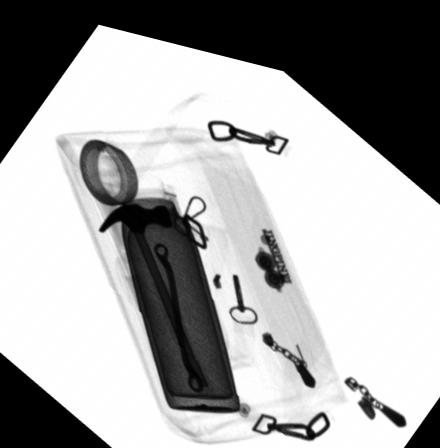Hammer: (98, 195, 210, 379)
Wrench: (151, 235, 204, 384)
